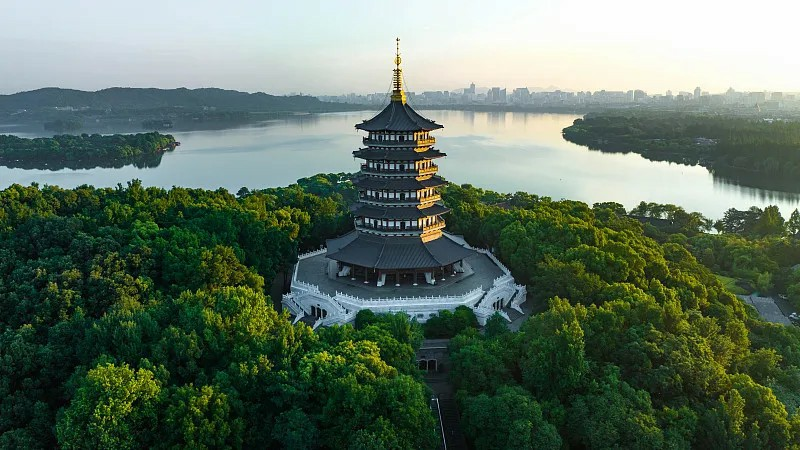Leifeng: (325, 35, 475, 285)
